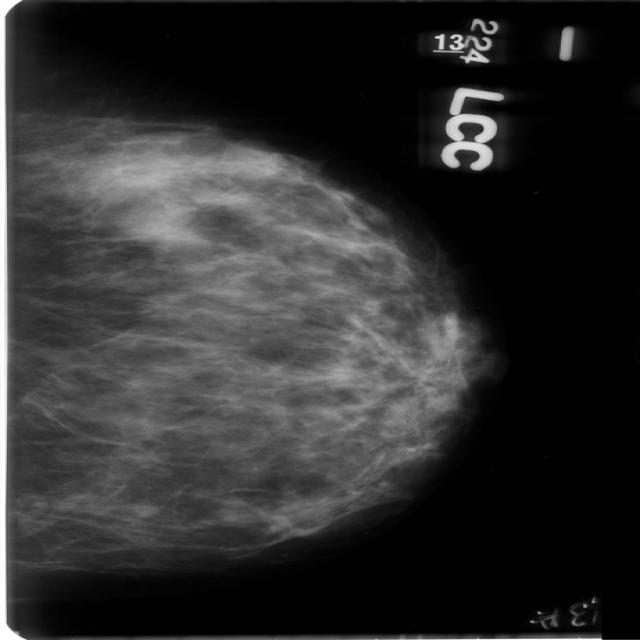tumour: (212, 143, 284, 180)
